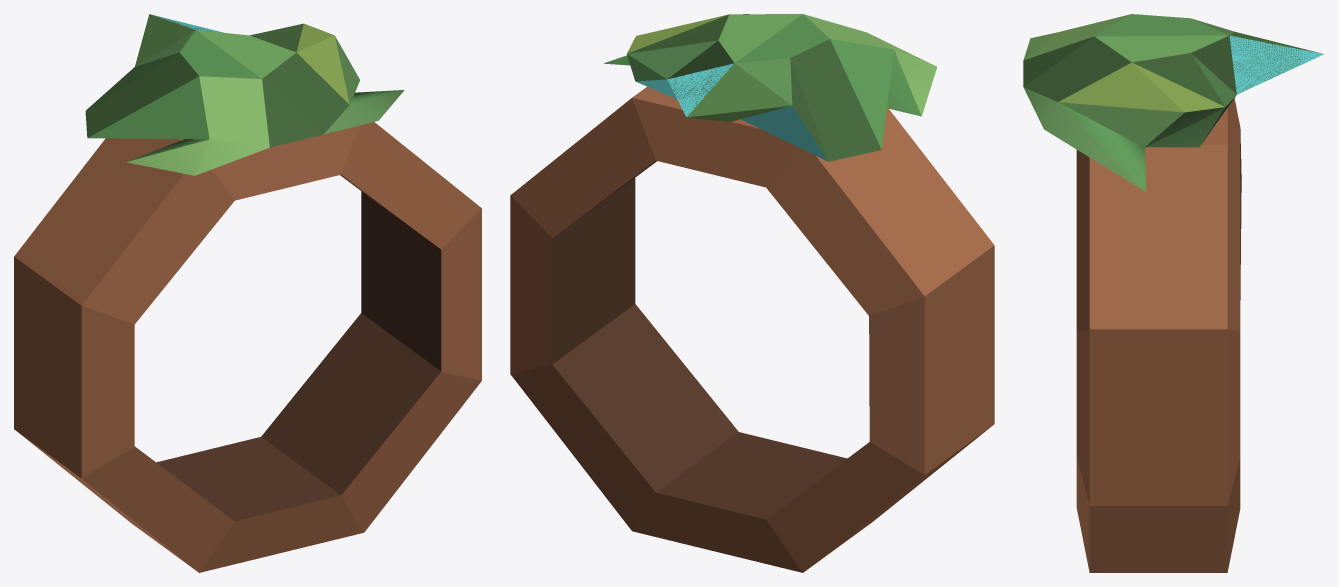
Rendered from Item_Ring_10.fbx.
3 views of the same model, side by side, from view 1: azimuth 30°, elevation 25°; view 2: azimuth 150°, elevation 25°; view 3: azimuth 270°, elevation 25° (orthographic). The views are drawn at different scales.
Visible parts, largest first — view 1: Lera_Item_Ring_10; view 2: Lera_Item_Ring_10; view 3: Lera_Item_Ring_10.
Part boxes in pixels (x1,y1,x2,y2): Lera_Item_Ring_10: (14, 14, 481, 572); Lera_Item_Ring_10: (510, 14, 994, 572); Lera_Item_Ring_10: (1023, 14, 1324, 572).
Bounding box in the file's own units: 5.07 × 5.77 × 3.23.
